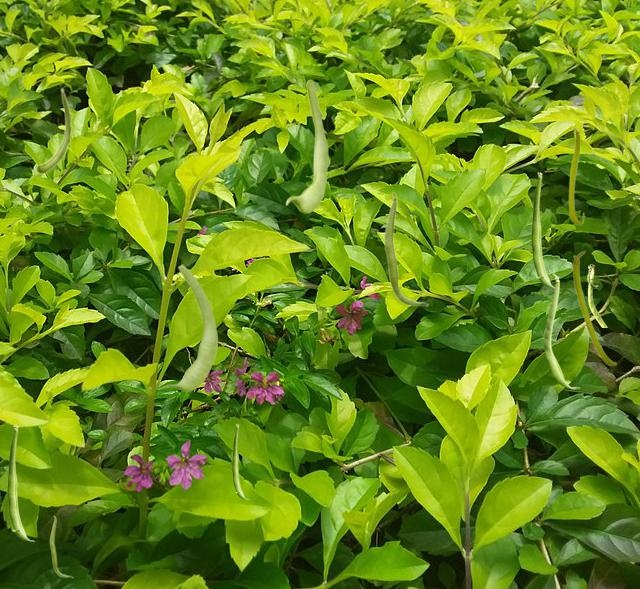french_bean: (157, 263, 217, 390), (285, 79, 327, 212), (383, 191, 428, 306), (572, 250, 616, 365), (544, 273, 579, 388), (7, 425, 34, 540), (35, 87, 71, 173), (531, 172, 554, 287), (568, 126, 583, 224), (49, 515, 72, 577), (232, 424, 248, 498), (587, 264, 606, 326)
